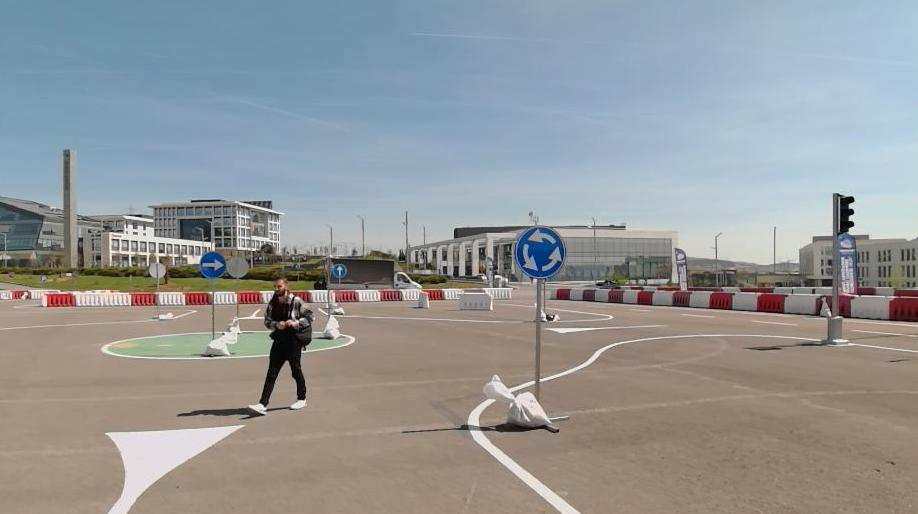nesne: (0, 299, 916, 512), (99, 308, 817, 512), (2, 307, 270, 512), (508, 331, 817, 393), (466, 397, 580, 512), (103, 424, 241, 512), (247, 277, 313, 415), (548, 287, 818, 315), (101, 330, 353, 357), (0, 309, 197, 331), (483, 374, 554, 428), (289, 288, 511, 304), (328, 256, 421, 289), (315, 308, 531, 321), (514, 224, 566, 278), (42, 290, 209, 305), (842, 292, 917, 323), (546, 323, 666, 334), (206, 325, 239, 356), (550, 307, 612, 322), (853, 294, 891, 318), (850, 340, 915, 353), (199, 251, 227, 279), (75, 292, 130, 304), (786, 294, 818, 314), (852, 326, 916, 336), (893, 297, 917, 323), (0, 288, 56, 299), (458, 292, 492, 310), (758, 293, 785, 313), (732, 293, 758, 311), (752, 317, 798, 327), (130, 291, 159, 305), (323, 315, 339, 338), (710, 292, 733, 308), (157, 291, 185, 304), (44, 294, 74, 306), (689, 291, 709, 307), (681, 310, 713, 320), (185, 291, 209, 304), (336, 289, 360, 302), (213, 290, 235, 304), (237, 290, 260, 303), (653, 291, 673, 305), (485, 287, 509, 298), (30, 290, 56, 300), (289, 289, 309, 302), (423, 288, 444, 300), (821, 296, 832, 318), (841, 295, 853, 315), (359, 289, 380, 300), (673, 292, 689, 306), (623, 290, 638, 304), (636, 290, 652, 303), (310, 290, 327, 302), (569, 288, 587, 299), (443, 288, 460, 299), (382, 291, 402, 300), (401, 290, 419, 300), (158, 311, 175, 321), (608, 289, 621, 302), (261, 290, 274, 302), (418, 293, 430, 306), (10, 290, 32, 297), (329, 302, 343, 313), (596, 289, 609, 300), (584, 289, 596, 300), (557, 289, 571, 298), (460, 288, 485, 293), (0, 290, 12, 298), (549, 287, 557, 298)
